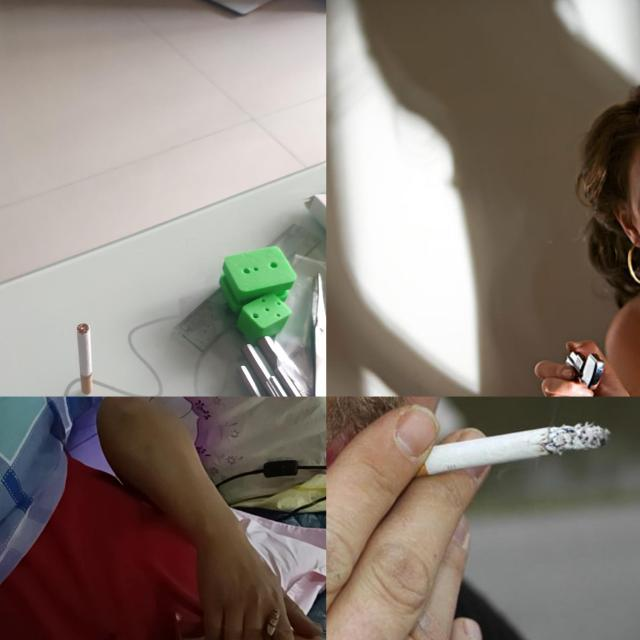smoking: (368, 415, 616, 479), (77, 323, 93, 394), (262, 608, 280, 640)
